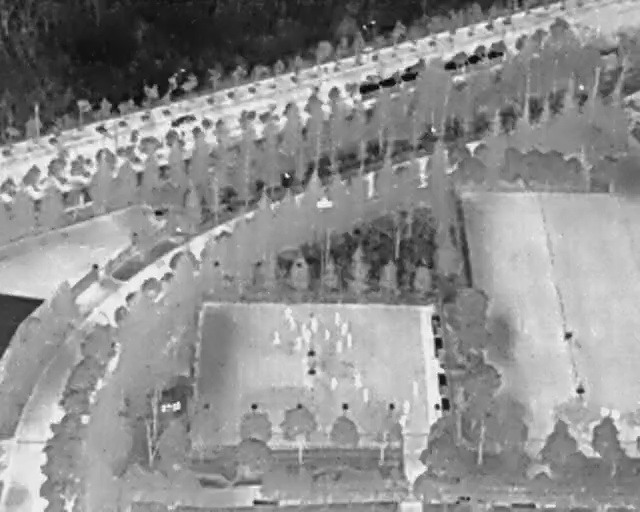Car: (168, 111, 197, 128)
Person: (310, 317, 318, 333), (273, 330, 281, 345), (289, 317, 297, 332), (330, 376, 338, 391), (402, 399, 410, 414), (335, 339, 343, 353), (355, 372, 362, 388), (362, 388, 370, 402), (340, 323, 348, 336), (305, 329, 312, 343), (324, 328, 331, 342), (295, 336, 302, 350), (412, 381, 419, 395), (284, 308, 292, 320), (346, 332, 352, 347), (335, 313, 341, 326), (301, 323, 307, 336)
